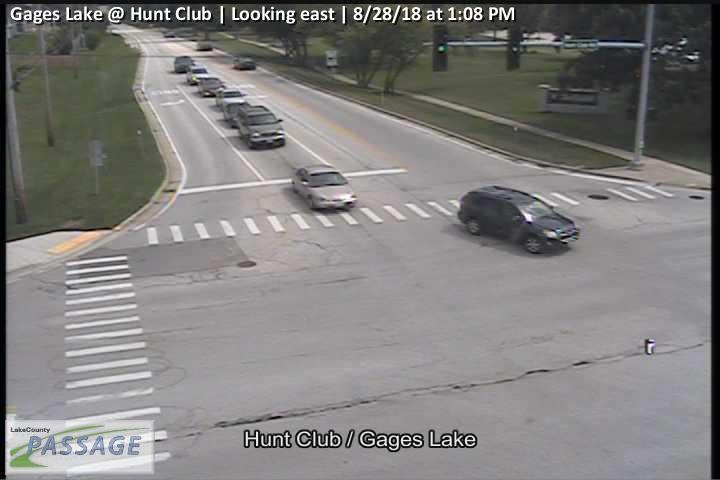SUV: (457, 186, 578, 254), (236, 105, 285, 148), (186, 65, 208, 85), (175, 56, 195, 72)
Sedan: (292, 163, 357, 211), (217, 88, 249, 110), (197, 76, 224, 96), (232, 57, 256, 69), (197, 41, 212, 51)
